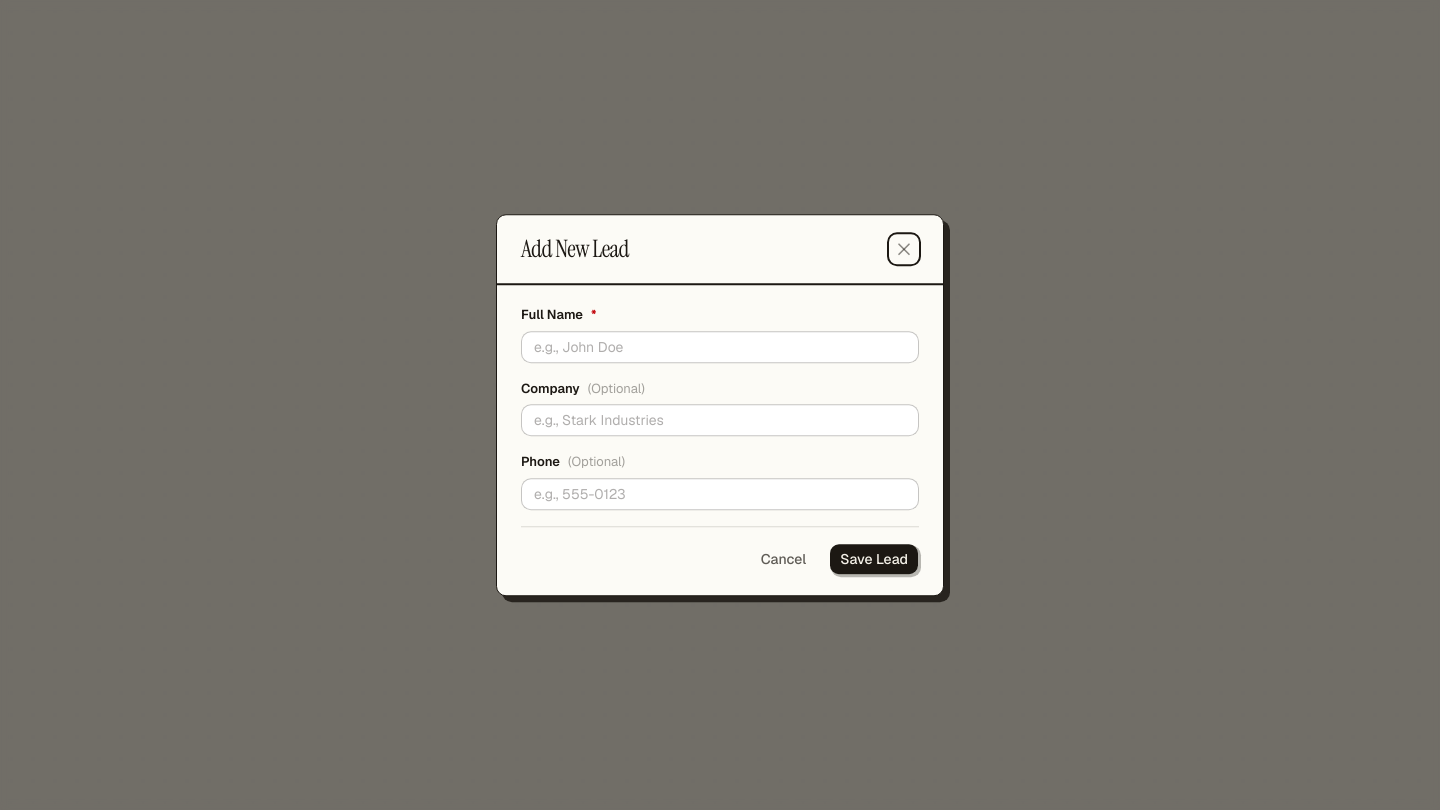
AddLeadDialog › shows the API error and preserves entered values
The width and height of the screenshot is (1440, 810).
Type "John Doe" into the field labelled "Full Name *" at (720, 347), box [521, 331, 919, 363]
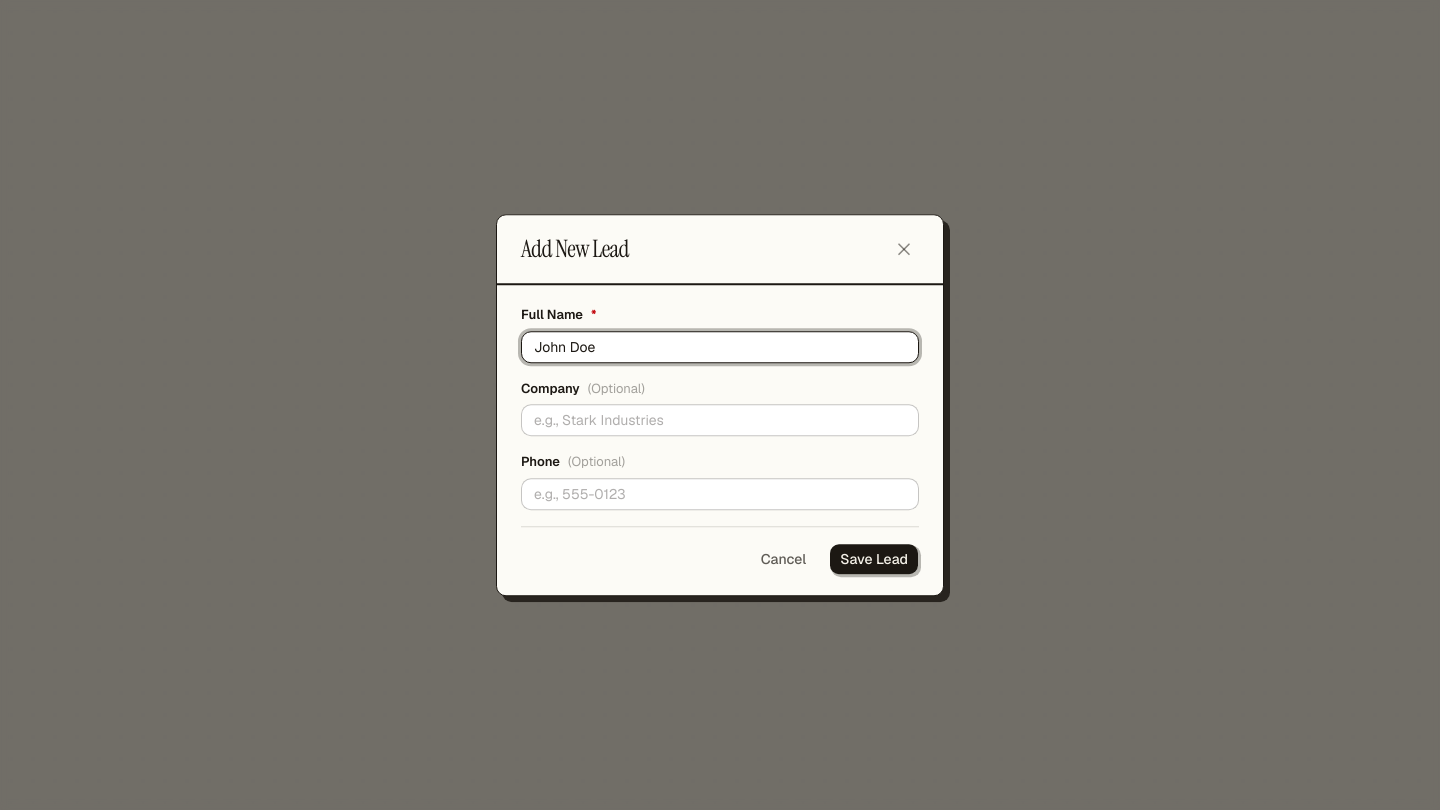
Click the button "Save Lead" at (874, 559), box [829, 543, 919, 575]
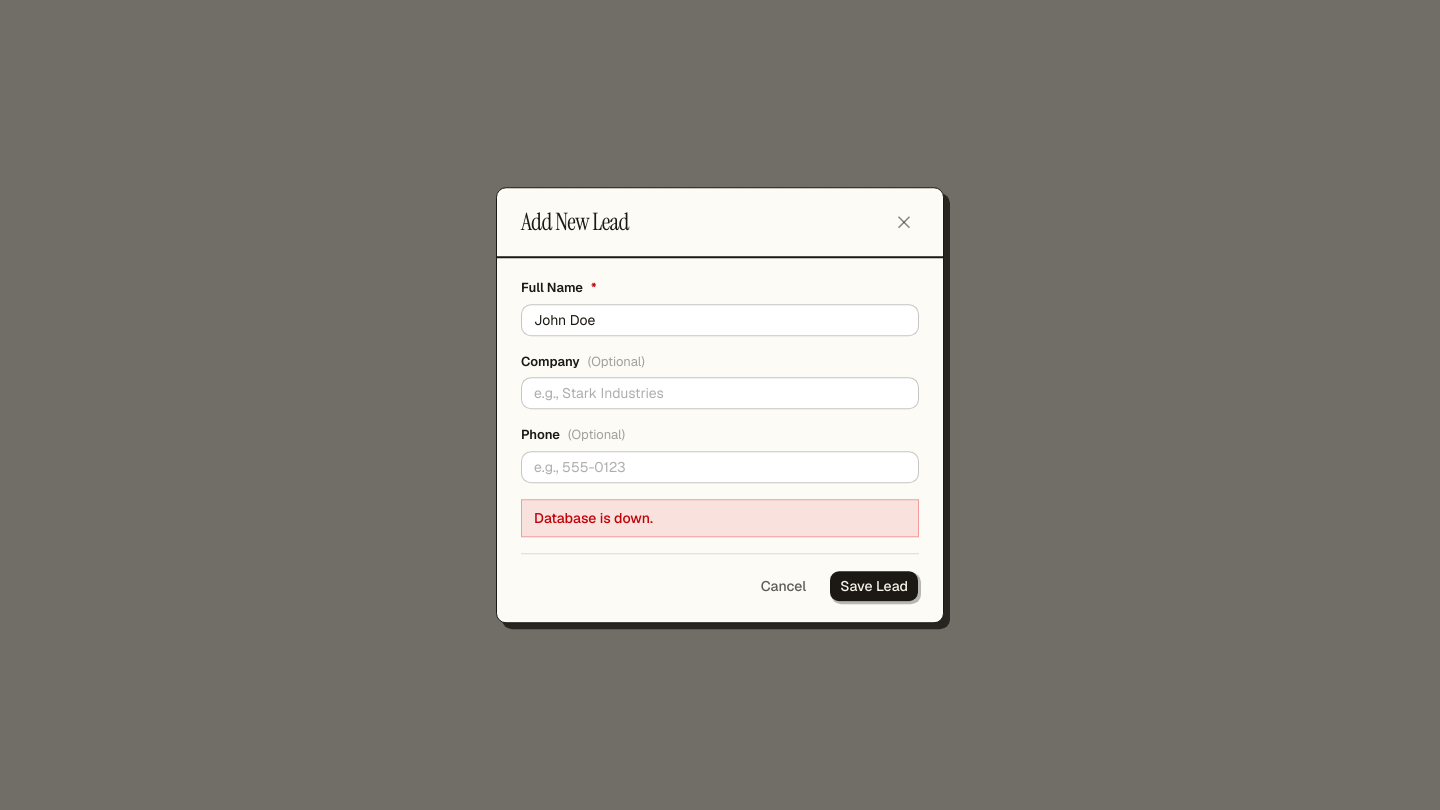
Expected: the message shows "Database is down", [534, 509, 653, 527]
